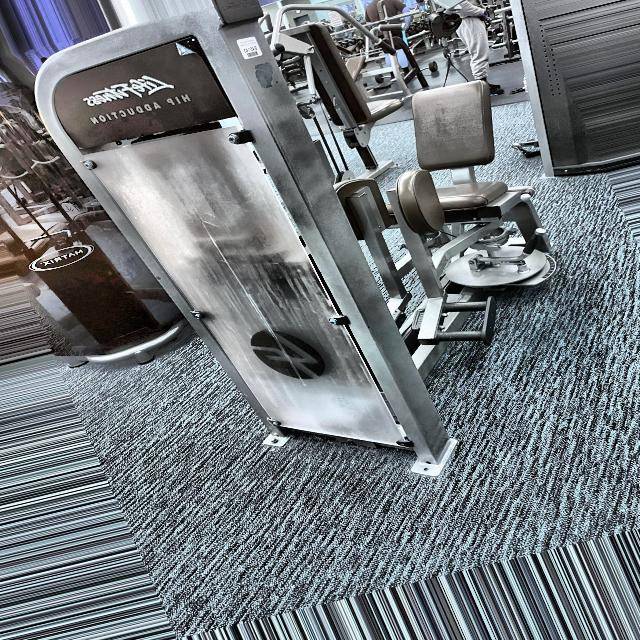hip_adduction_machine: (354, 25, 570, 388), (74, 83, 202, 154)
